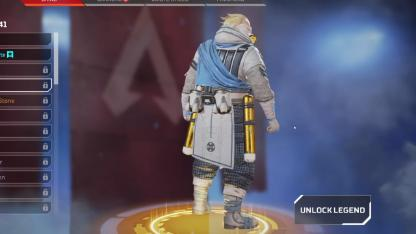Target: (183, 13, 275, 179)
